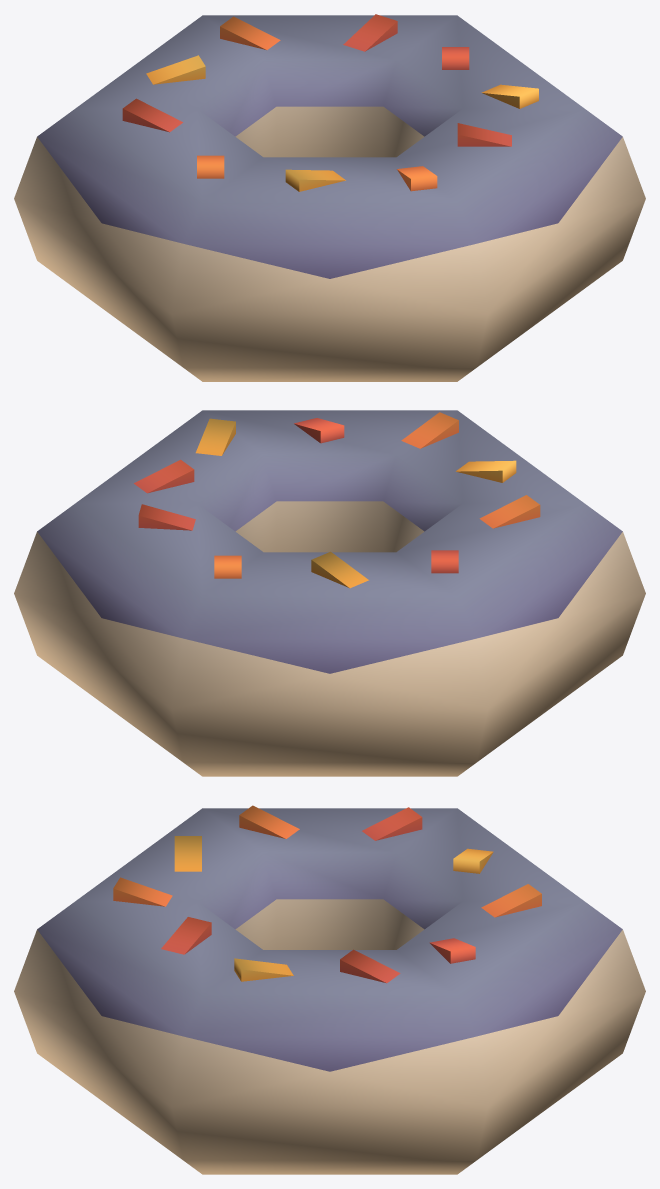
The model's file is donut-sprinkles.glb.
The picture shows the model from 3 angles, top to bottom: view 1: azimuth 30°, elevation 25°; view 2: azimuth 150°, elevation 25°; view 3: azimuth 270°, elevation 25°; orthographic projection.
Parts seen in each view (by area): view 1: donut-sprinkles; view 2: donut-sprinkles; view 3: donut-sprinkles.
Boxes of the visible parts, x1,y1,x2,y2 form: donut-sprinkles: (14,14,645,381); donut-sprinkles: (14,410,645,776); donut-sprinkles: (14,805,645,1174).
Bounding box in the file's own units: 0.2451 × 0.095 × 0.283.
Materials: 1 (1 with a texture image).
